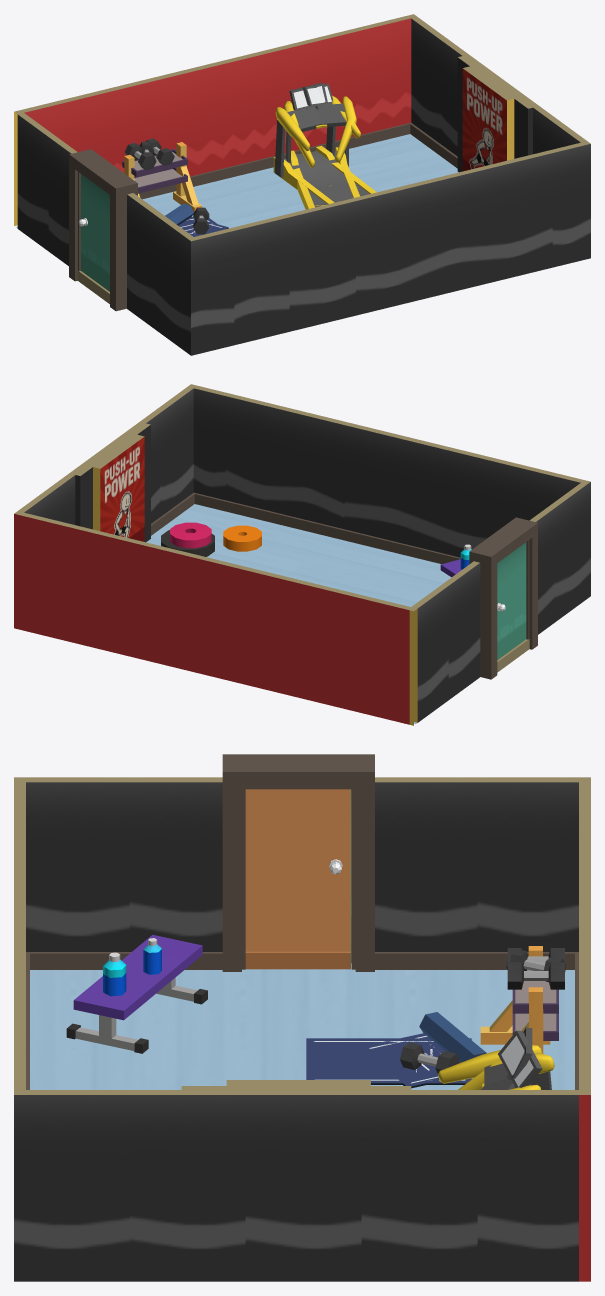
Rendered from Gym.fbx.
3 renders of one model, top to bottom at view 1: azimuth 30°, elevation 25°; view 2: azimuth 150°, elevation 25°; view 3: azimuth 270°, elevation 25°, orthographic. The views are drawn at different scales.
Parts seen in each view (by area): view 1: Gym Walls, Gym Floor.002, Gym Door Boundary, Treadmill, Treadmill Mess, Duumbell n Mat, Gym Wall Peice, Duumbell n Mat Mess; view 2: Gym Walls, Gym Floor.002, Gym Door Boundary, Gym Wall Peice, Gym Plates, Bench; view 3: Gym Walls, Gym Floor.002, Gym Door, Gym Door Boundary, Bench, Duumbell n Mat Mess, Duumbell n Mat, Treadmill Mess, Treadmill.
Boxes of the visible parts, x1=… form: Gym Walls: x1=14, y1=14, x2=590, y2=355; Gym Floor.002: x1=16, y1=134, x2=458, y2=228; Gym Door Boundary: x1=69, y1=149, x2=137, y2=311; Treadmill: x1=273, y1=82, x2=376, y2=204; Treadmill Mess: x1=284, y1=84, x2=360, y2=209; Duumbell n Mat: x1=122, y1=138, x2=216, y2=235; Gym Wall Peice: x1=77, y1=174, x2=109, y2=303; Duumbell n Mat Mess: x1=123, y1=141, x2=228, y2=236; Gym Walls: x1=14, y1=384, x2=590, y2=725; Gym Floor.002: x1=146, y1=504, x2=451, y2=724; Gym Door Boundary: x1=469, y1=517, x2=537, y2=679; Gym Wall Peice: x1=497, y1=542, x2=529, y2=672; Gym Plates: x1=161, y1=522, x2=261, y2=556; Bench: x1=440, y1=544, x2=471, y2=577; Gym Walls: x1=14, y1=777, x2=590, y2=1281; Gym Floor.002: x1=30, y1=963, x2=574, y2=1089; Gym Door: x1=245, y1=789, x2=350, y2=969; Gym Door Boundary: x1=222, y1=754, x2=374, y2=971; Bench: x1=66, y1=934, x2=207, y2=1053; Duumbell n Mat Mess: x1=360, y1=947, x2=566, y2=1088; Duumbell n Mat: x1=306, y1=946, x2=564, y2=1084; Treadmill Mess: x1=458, y1=1030, x2=554, y2=1089; Treadmill: x1=438, y1=1027, x2=541, y2=1089.
Size of the model in its own units: 8.93 by 2.56 by 6.64.
